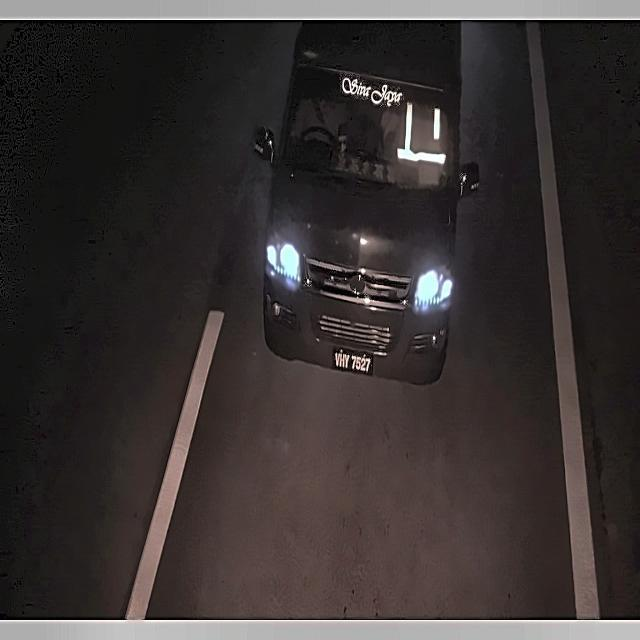car: (328, 342, 384, 380)
